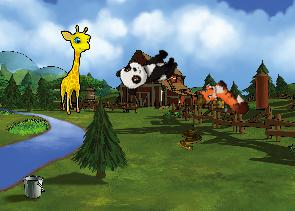fox: (191, 70, 252, 131)
giraffe: (60, 25, 91, 115)
panda: (114, 43, 181, 98)
